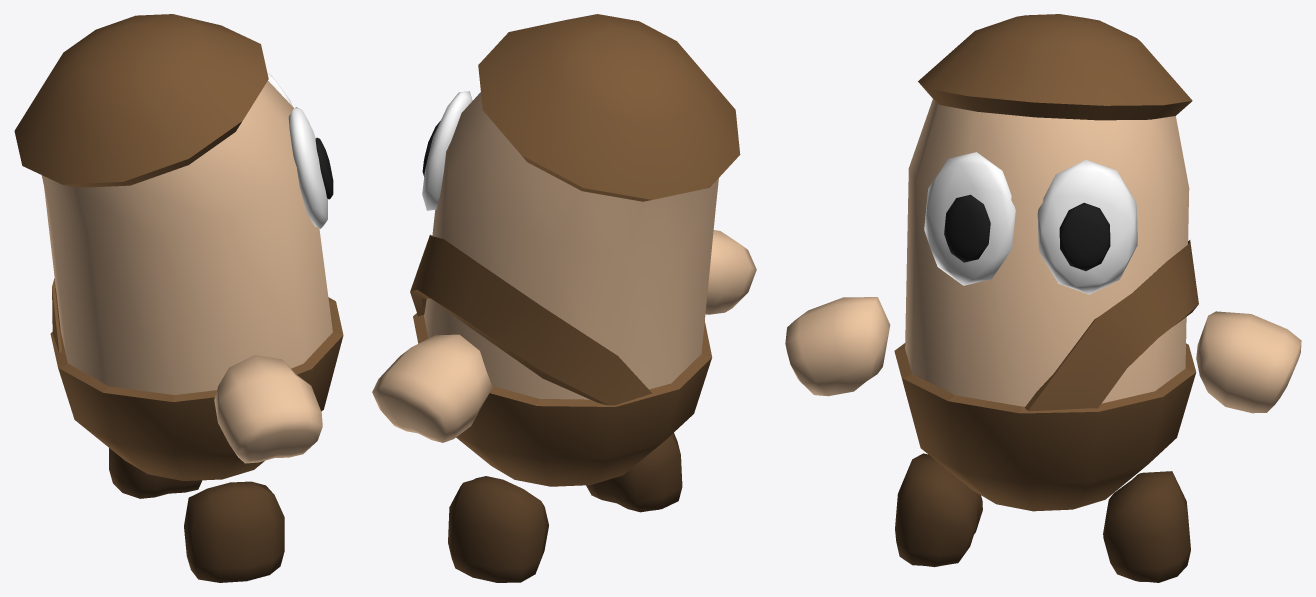
Rendered from character.FBX.
3 renders of one model, left to right at view 1: azimuth 30°, elevation 25°; view 2: azimuth 150°, elevation 25°; view 3: azimuth 270°, elevation 25°, orthographic. The views are drawn at different scales.
Visible parts, largest first — view 1: Char_Body; view 2: Char_Body; view 3: Char_Body.
Part boxes in pixels (left/top/right/bottom): Char_Body: left=14, top=14, right=343, bottom=582; Char_Body: left=372, top=14, right=756, bottom=582; Char_Body: left=785, top=14, right=1301, bottom=582.
Size of the model in its own units: 377 by 637 by 573.
